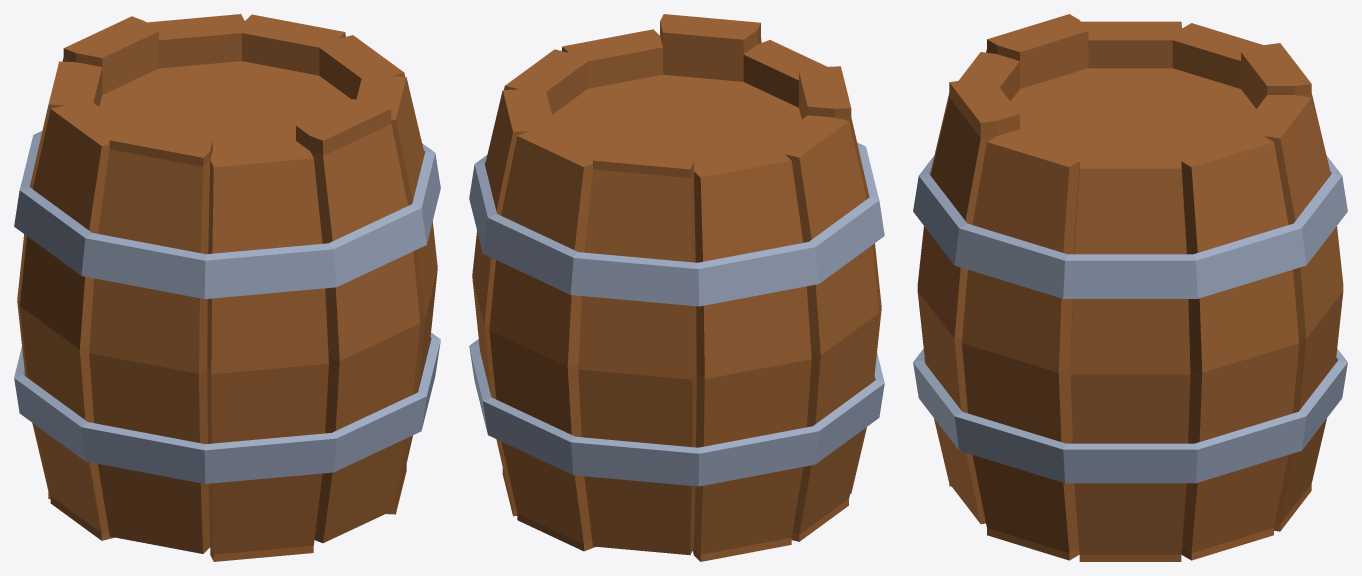
The model's file is barrel.glb.
3 views of the same model, side by side, from view 1: azimuth 30°, elevation 25°; view 2: azimuth 150°, elevation 25°; view 3: azimuth 270°, elevation 25° (orthographic). The views are drawn at different scales.
Parts seen in each view (by area): view 1: barrel; view 2: barrel; view 3: barrel.
Boxes of the visible parts, x1,y1,x2,y2 form: barrel: (14, 14, 440, 561); barrel: (469, 14, 884, 561); barrel: (913, 14, 1347, 561).
Size of the model in its own units: 1.38 by 1.51 by 1.45.
